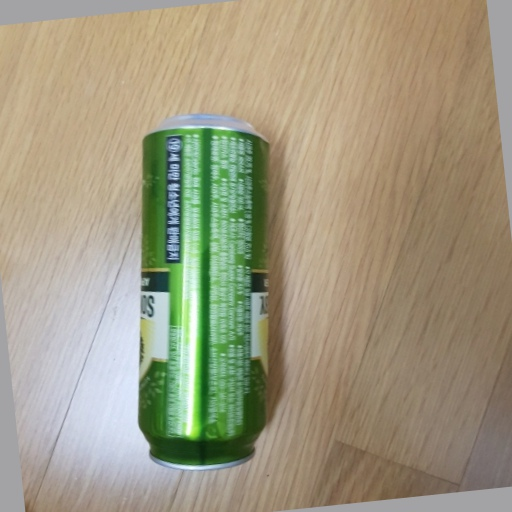Metal_0: (125, 109, 274, 471)
